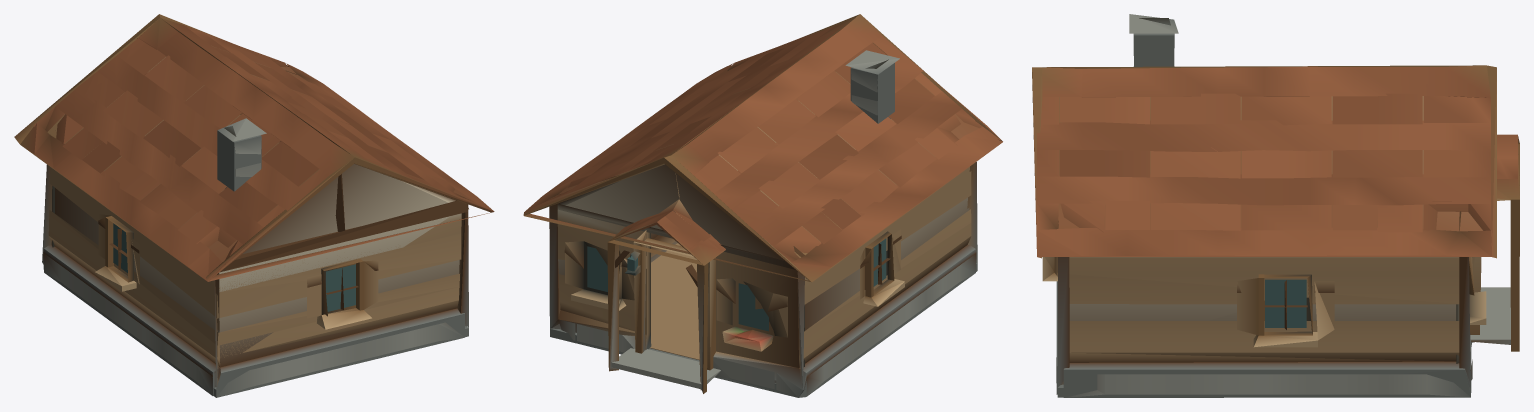
The model's file is LogCabin.glb.
3 views of the same model, side by side, from view 1: azimuth 30°, elevation 25°; view 2: azimuth 150°, elevation 25°; view 3: azimuth 270°, elevation 25° (orthographic). The views are drawn at different scales.
Visible parts, largest first — view 1: LogCabin_Body_P0_LOD1, HouseGlass_P0_LOD1; view 2: LogCabin_Body_P0_LOD1, HouseGlass_P0_LOD1; view 3: LogCabin_Body_P0_LOD1, HouseGlass_P0_LOD1.
Boxes of the visible parts, <box> form: LogCabin_Body_P0_LOD1: <box>14,14,494,397</box>; HouseGlass_P0_LOD1: <box>113,223,355,311</box>; LogCabin_Body_P0_LOD1: <box>523,14,1002,397</box>; HouseGlass_P0_LOD1: <box>587,238,886,331</box>; LogCabin_Body_P0_LOD1: <box>1032,14,1519,397</box>; HouseGlass_P0_LOD1: <box>1265,279,1306,327</box>.
Size of the model in its own units: 5.92 by 4.36 by 7.3.
